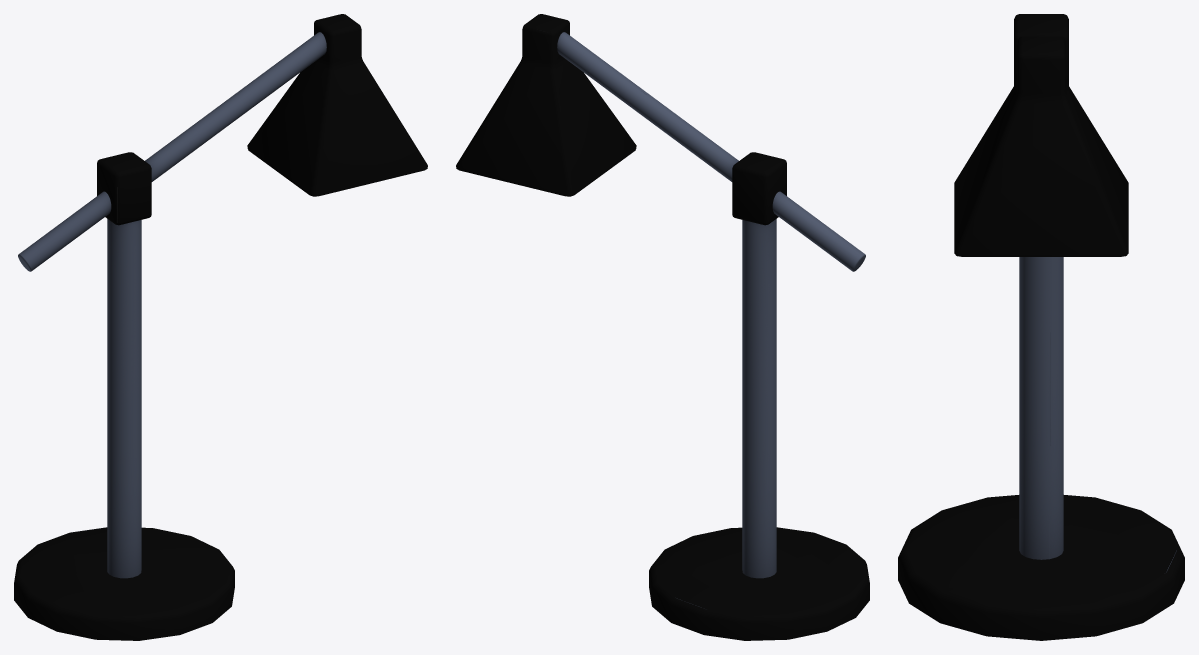
Rendered from Lampe.fbx.
The picture shows the model from 3 angles, left to right: view 1: azimuth 30°, elevation 25°; view 2: azimuth 150°, elevation 25°; view 3: azimuth 270°, elevation 25°; orthographic projection. The views are drawn at different scales.
Visible parts, largest first — view 1: Cylinder; view 2: Cylinder; view 3: Cylinder.
Part boxes in pixels (x1,y1,x2,y2): Cylinder: (14,14,427,640); Cylinder: (456,14,869,640); Cylinder: (898,14,1184,640).
Size of the model in its own units: 13.86 by 27 by 35.71.
